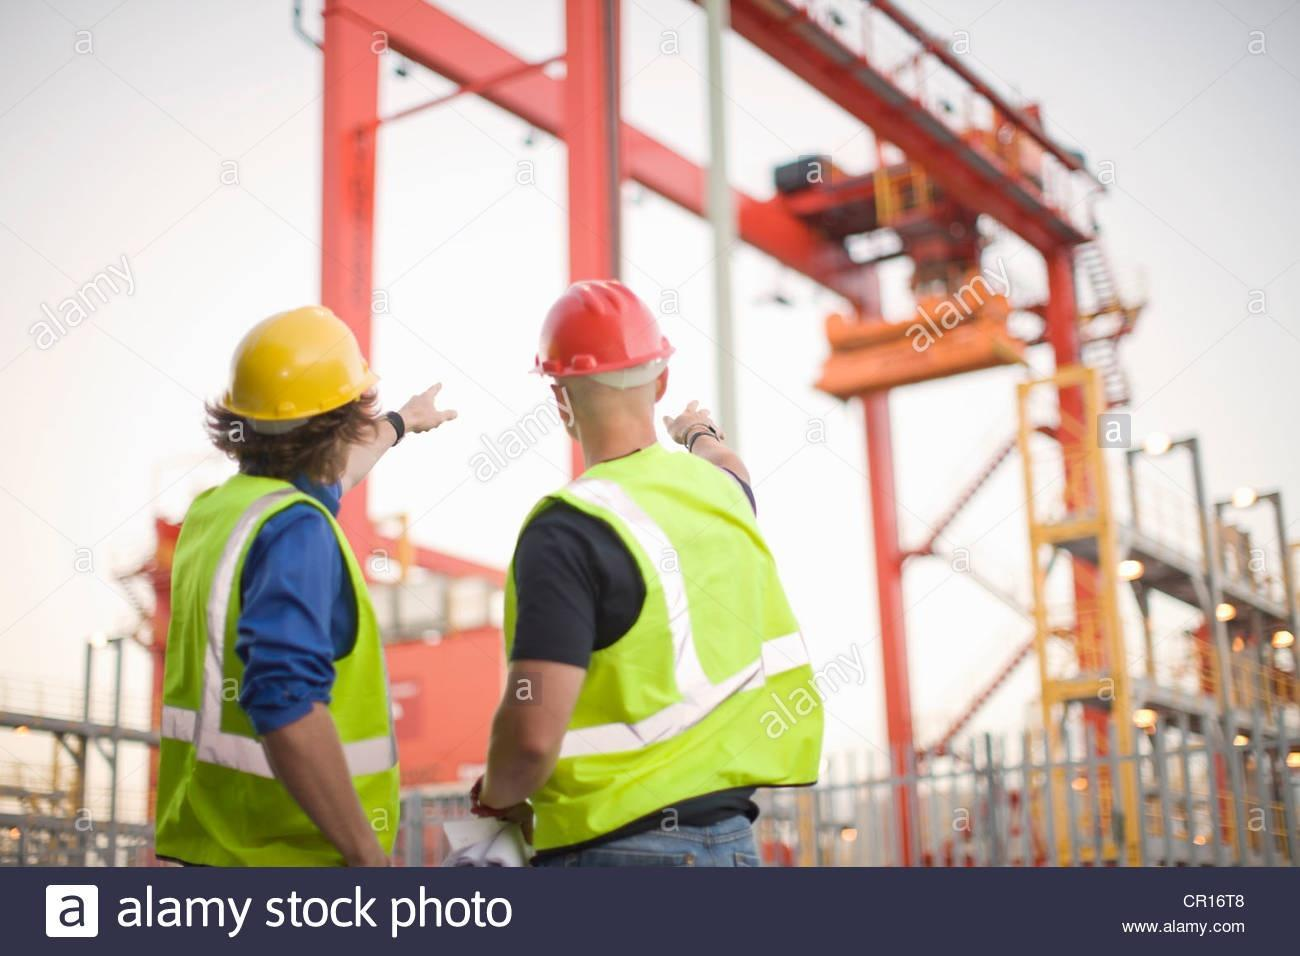helmet: (208, 299, 386, 431), (515, 276, 682, 384)
person: (475, 269, 840, 866), (145, 296, 427, 862)
vest: (155, 469, 429, 873), (538, 442, 818, 828)
